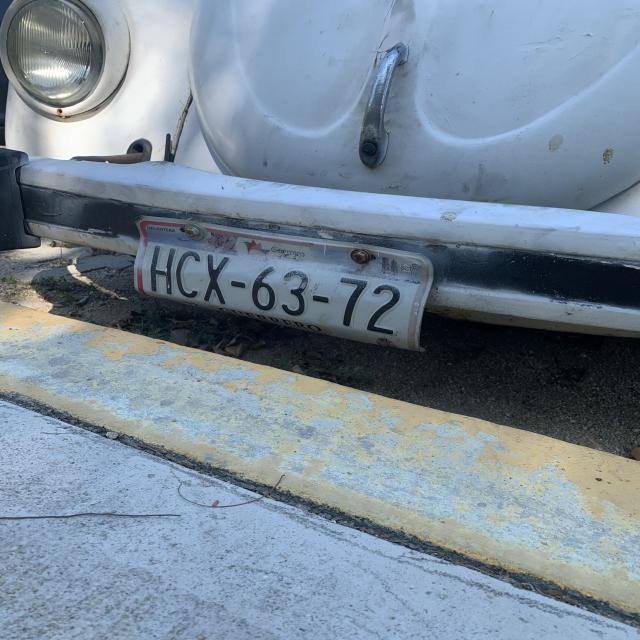placa: (146, 237, 416, 340)
